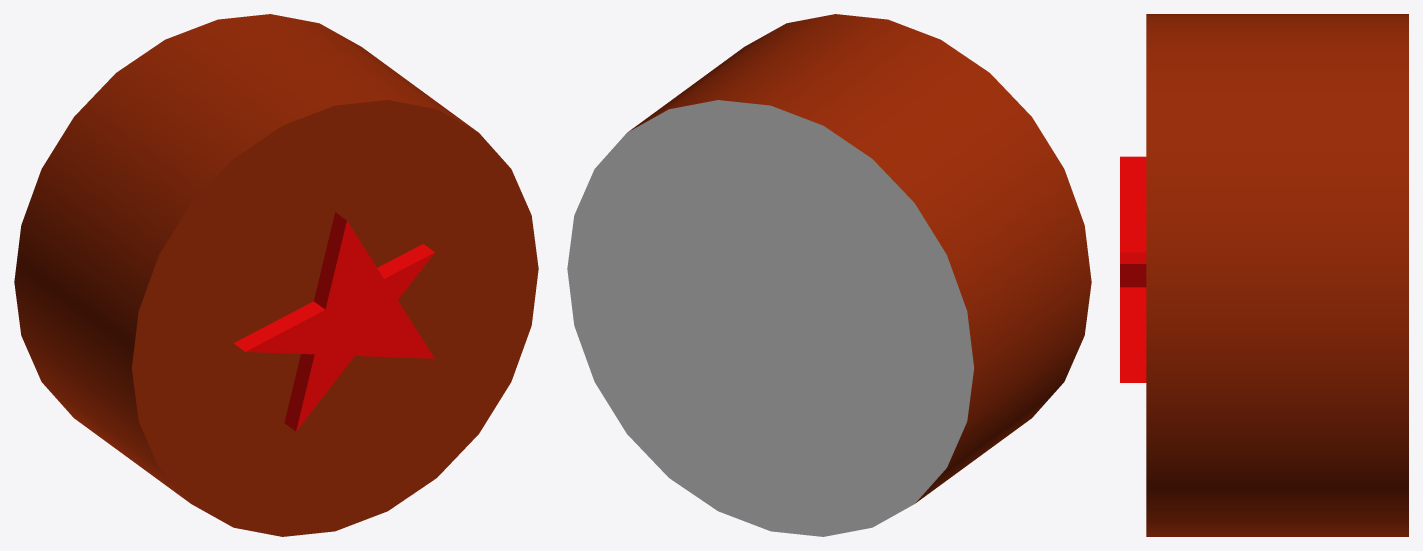
Rendered from star.fbx.
The picture shows the model from 3 angles, left to right: view 1: azimuth 30°, elevation 25°; view 2: azimuth 150°, elevation 25°; view 3: azimuth 270°, elevation 25°; orthographic projection. The views are drawn at different scales.
Visible parts, largest first — view 1: Model; view 2: Model; view 3: Model.
Boxes of the visible parts, bbox=[...] form: Model: bbox=[14, 14, 538, 536]; Model: bbox=[567, 14, 1091, 536]; Model: bbox=[1120, 14, 1408, 536].
Size of the model in its own units: 4 by 4 by 2.2.
